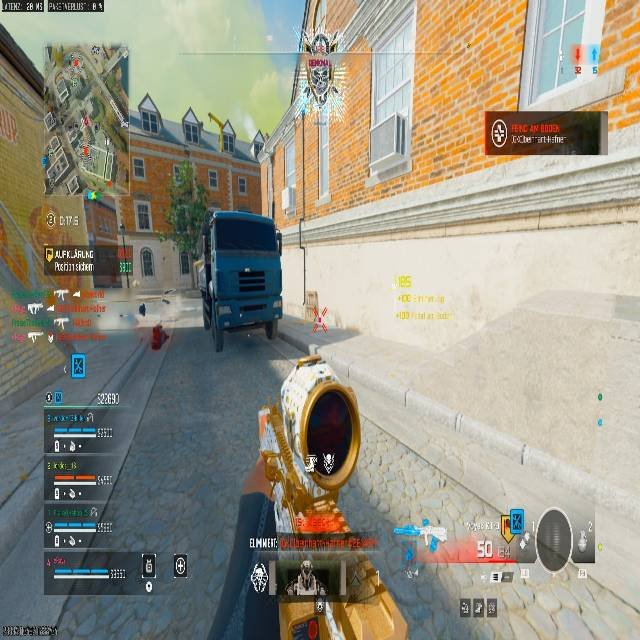player: (312, 307, 329, 334)
